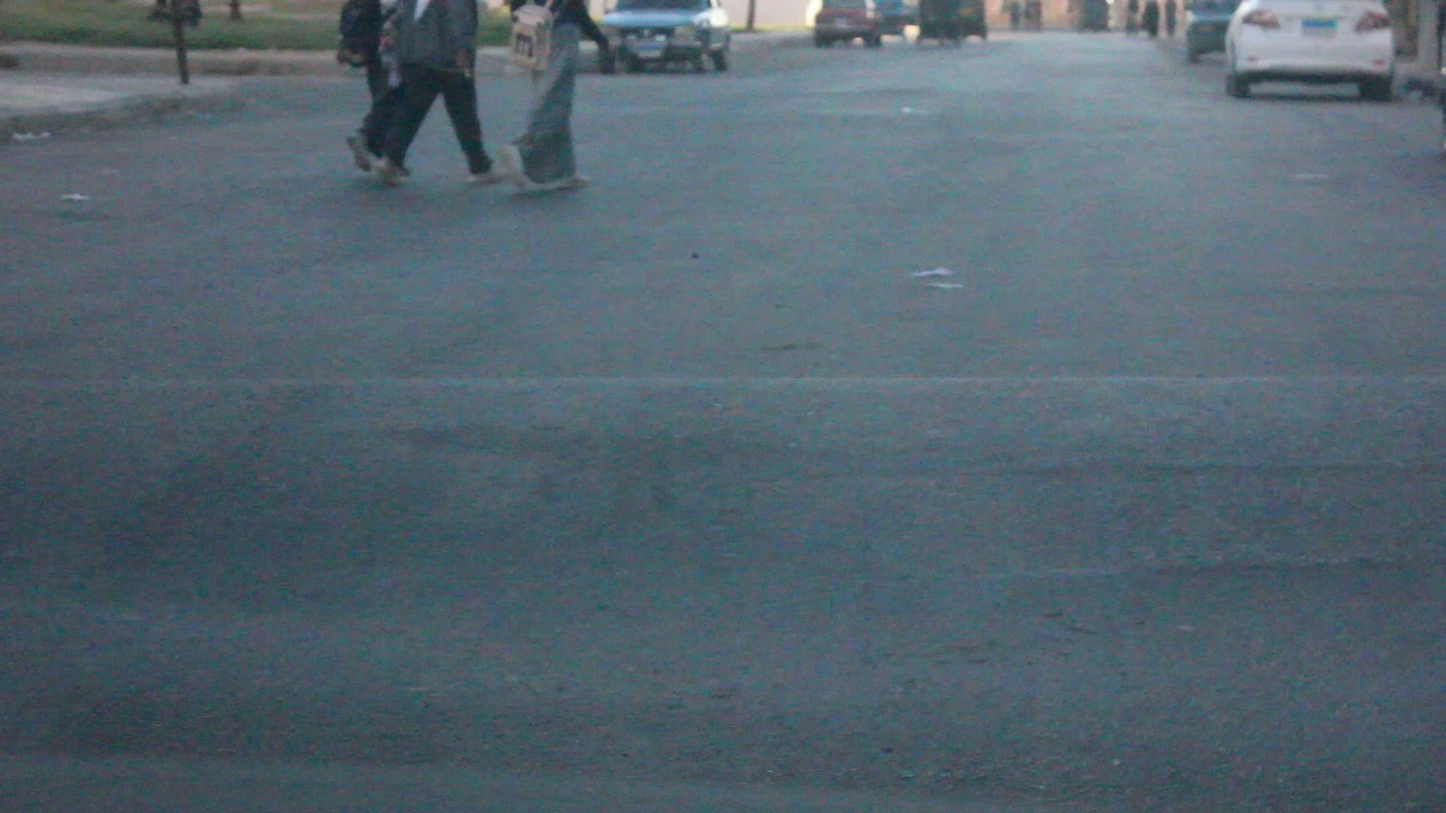Bump: (0, 365, 1446, 612)
